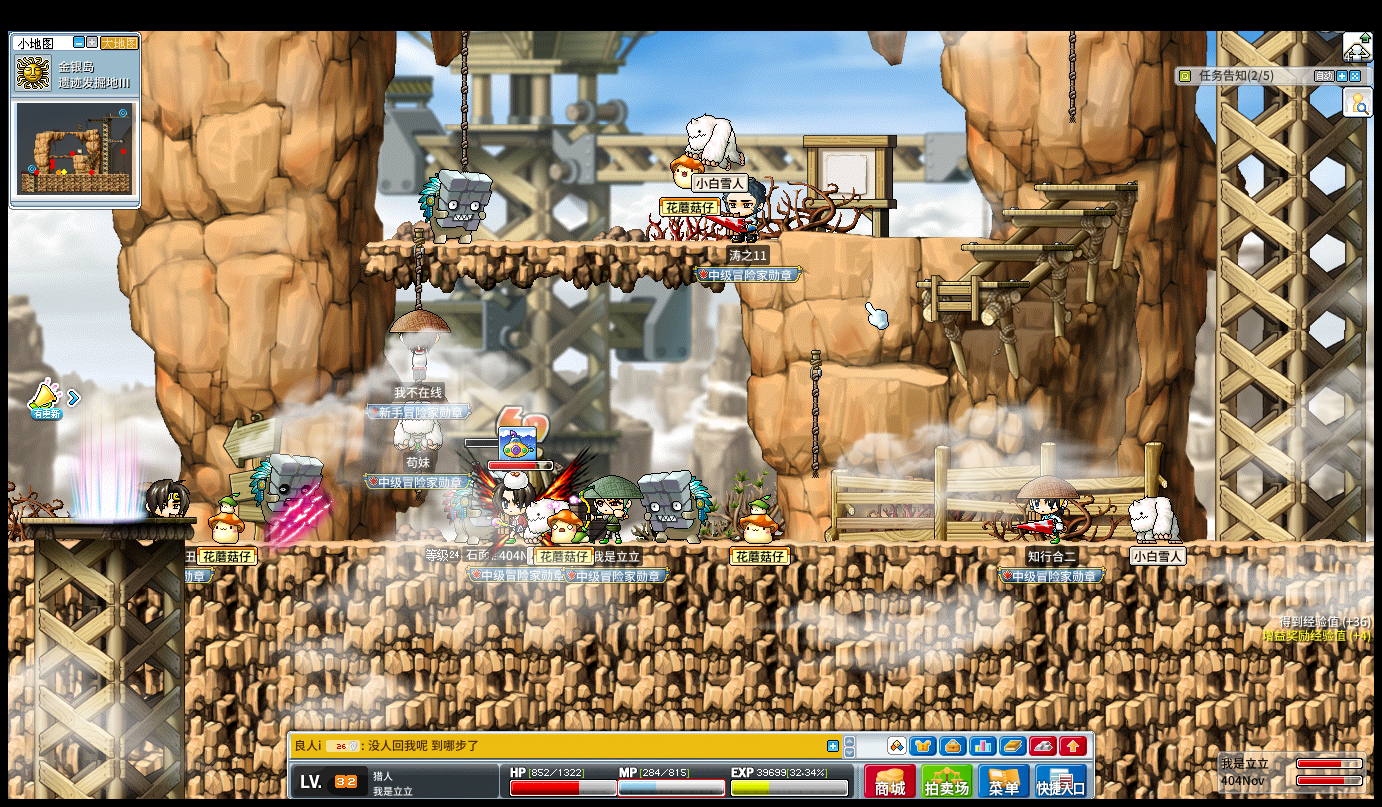floor: (189, 540, 1373, 553), (639, 469, 713, 545), (250, 454, 324, 527), (420, 169, 492, 244), (364, 240, 729, 252), (444, 474, 483, 545), (780, 233, 1004, 243), (838, 367, 947, 386), (20, 515, 197, 524), (1002, 209, 1116, 217), (1034, 184, 1138, 192), (916, 281, 1029, 288), (961, 245, 1074, 251)
rope: (459, 29, 468, 173), (811, 350, 821, 478), (413, 228, 424, 310), (1069, 30, 1077, 123)
